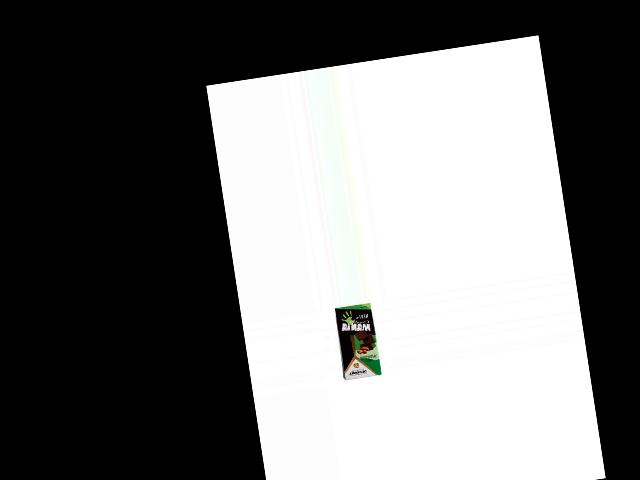chocolate: (332, 301, 383, 382)
